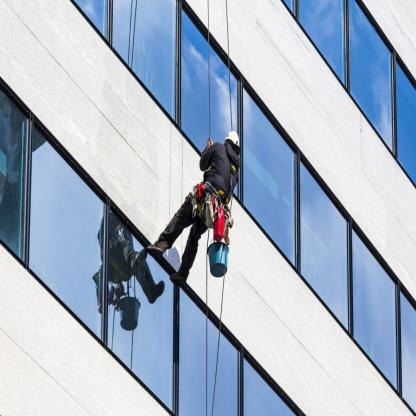window: (46, 163, 78, 279), (253, 140, 280, 214), (311, 200, 334, 276), (364, 270, 384, 349), (133, 21, 162, 65)
